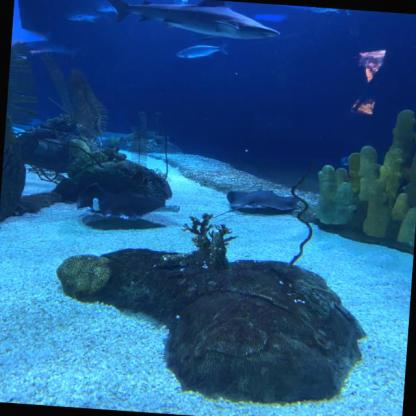fish: (176, 38, 230, 62), (64, 8, 103, 24), (308, 6, 350, 16), (173, 0, 189, 7)
shark: (98, 0, 282, 43)
stingray: (75, 181, 181, 223), (226, 186, 299, 214)
